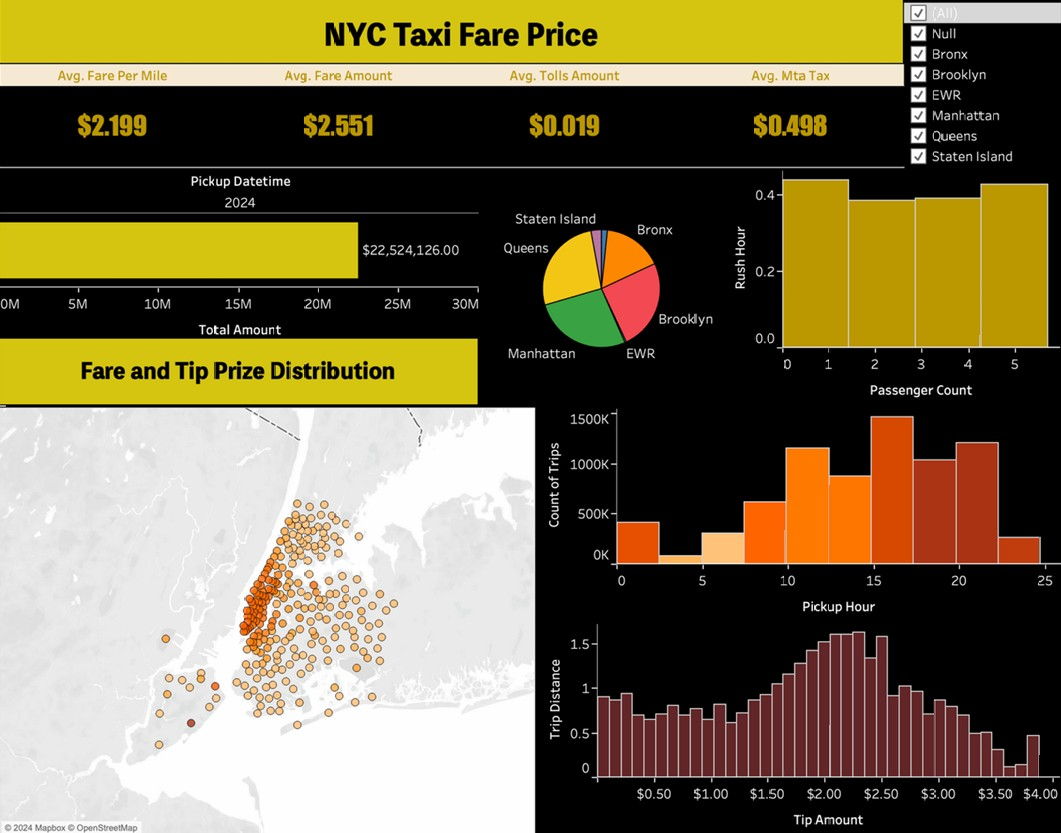

This screenshot's page, from the dashboard's own definition file:
{"tool":"tableau","page":{"name":"Dashboard 1","canvas":[1000,800],"ordinal":0},"visuals":[{"type":"worksheet","title":"Sheet 10","mark":"Shape","box":[1,10,841,60]},{"type":"filter","title":"pie+pickup","param":"[federated.0arvplr1pfay6l1h2dq431g24stl].[none:pickup_borough:nk]","box":[842,10,162,155]},{"type":"worksheet","title":"Sheet 9","mark":"Automatic","box":[1,72,843,96]},{"type":"worksheet","title":"2024_revenue","mark":"Automatic","cols":["pickup_datetime","total_amount"],"box":[1,167,451,167]},{"type":"worksheet","title":"pie+pickup","mark":"Pie","box":[447,168,228,221]},{"type":"worksheet","title":"rushhr_revenue","mark":"Automatic","rows":["rush_hour"],"cols":["Passenger Count (bin)"],"box":[673,168,315,221]},{"type":"worksheet","title":"Sheet 11","mark":"Automatic","box":[2,324,445,63]},{"type":"worksheet","title":"pickup+tip","mark":"Multipolygon","rows":["pickup_lat"],"cols":["pickup_lon"],"box":[0,388,501,412]},{"type":"worksheet","title":"month","mark":"Automatic","rows":["pickup_hour"],"cols":["Pickup Hour (bin)"],"box":[500,389,489,201]},{"type":"legend","title":"pickup+tip","param":"[federated.0arvplr1pfay6l1h2dq431g24stl].[avg:tip_amount:qk]","box":[340,746,159,51]}]}

Visuals, with their boxes in screenshot pixels (x1, y1, x2, y2):
"Sheet 10" worksheet (Shape marks): x1=0, y1=0, x2=909, y2=55
"pie+pickup" filter: x1=909, y1=0, x2=1060, y2=160
"Sheet 9" worksheet: x1=0, y1=57, x2=911, y2=163
"2024_revenue" worksheet: x1=0, y1=162, x2=479, y2=346
"pie+pickup" worksheet (Pie marks): x1=473, y1=163, x2=724, y2=407
"rushhr_revenue" worksheet: x1=722, y1=163, x2=1060, y2=407
"Sheet 11" worksheet: x1=0, y1=335, x2=473, y2=404
"pickup+tip" worksheet (Multipolygon marks): x1=0, y1=405, x2=533, y2=832
"month" worksheet: x1=532, y1=407, x2=1060, y2=628
"pickup+tip" legend: x1=355, y1=800, x2=531, y2=832
